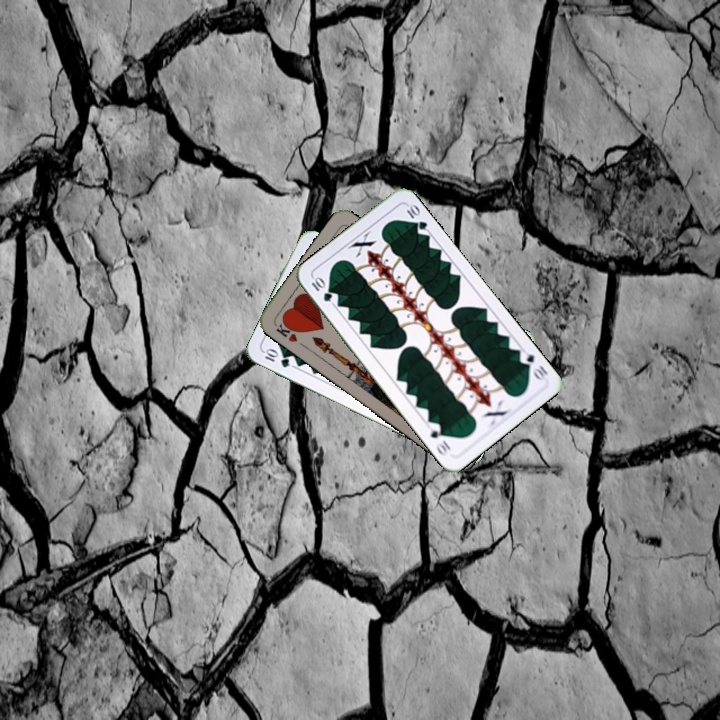G10: (515, 346, 550, 383), (307, 273, 335, 304), (260, 345, 292, 370)
HK: (271, 316, 301, 345)
